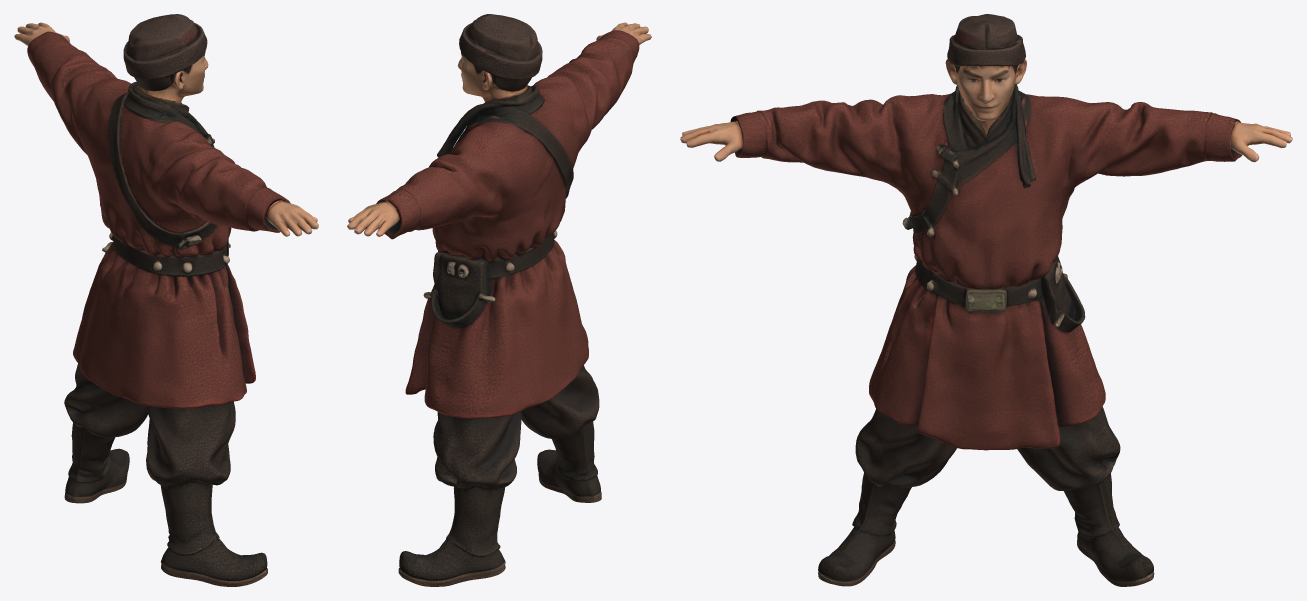
File: asset-xiongnu.glb
3 renders of one model, left to right at view 1: azimuth 30°, elevation 25°; view 2: azimuth 150°, elevation 25°; view 3: azimuth 270°, elevation 25°, orthographic. The views are drawn at different scales.
Visible parts, largest first — view 1: tripo_node_b614d405-a227-4642-9fa0-0495e08a5b27; view 2: tripo_node_b614d405-a227-4642-9fa0-0495e08a5b27; view 3: tripo_node_b614d405-a227-4642-9fa0-0495e08a5b27.
Part boxes in pixels (box(x1,y1,x2,y2)): tripo_node_b614d405-a227-4642-9fa0-0495e08a5b27: box(14, 14, 318, 586); tripo_node_b614d405-a227-4642-9fa0-0495e08a5b27: box(347, 14, 651, 586); tripo_node_b614d405-a227-4642-9fa0-0495e08a5b27: box(680, 14, 1292, 586).
Size of the model in its own units: 0.259 by 1 by 0.9926.
1 material, 1 textured.
